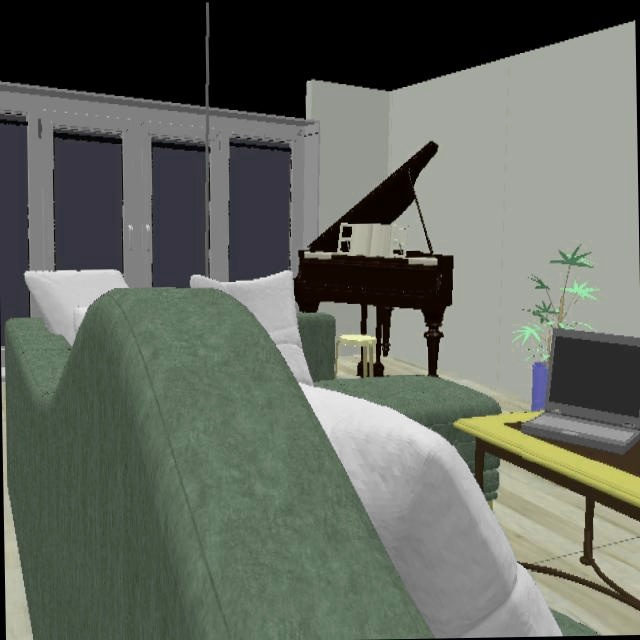laptop: (521, 332, 640, 460)
pillow: (188, 270, 561, 638), (23, 269, 127, 344)
sofa: (4, 287, 434, 640), (295, 311, 501, 429)
table: (452, 403, 640, 569)
